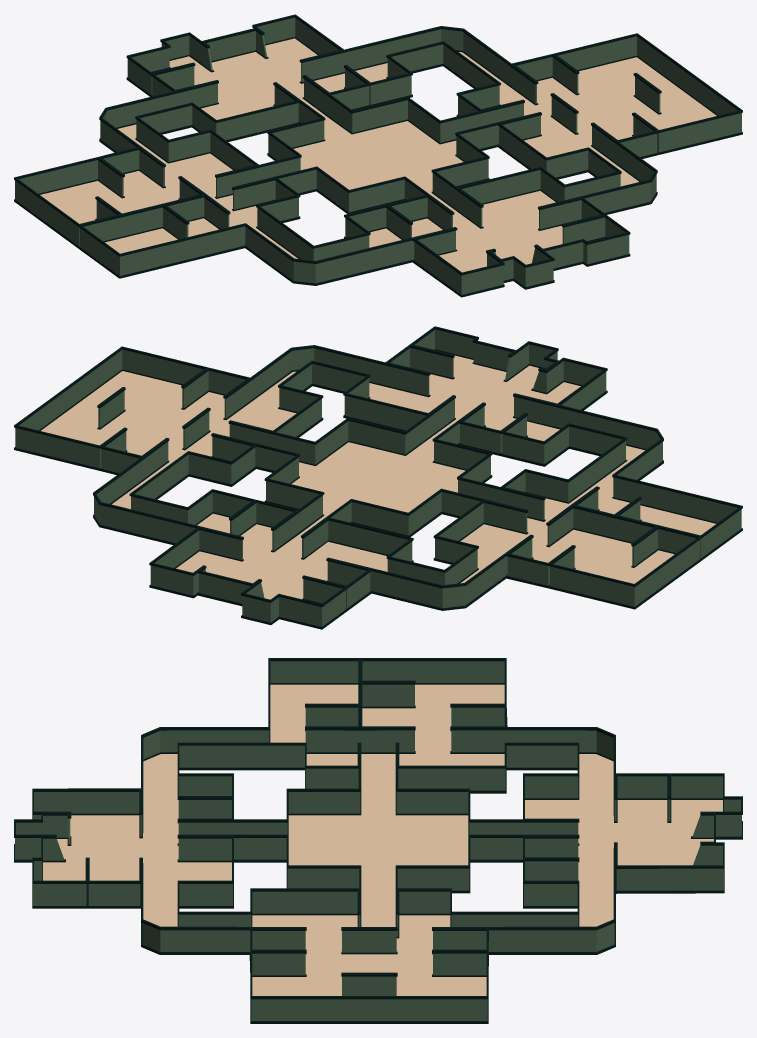
File: Final_Blockout.glb
3 renders of one model, top to bottom at view 1: azimuth 30°, elevation 25°; view 2: azimuth 150°, elevation 25°; view 3: azimuth 270°, elevation 25°, orthographic. The views are drawn at different scales.
Visible parts, largest first — view 1: Walls_col, Ground_col, WallsEdge; view 2: Walls_col, Ground_col, WallsEdge; view 3: Walls_col, Ground_col, WallsEdge.
Part boxes in pixels (bbox=[...]): Walls_col: bbox=[15, 17, 741, 294]; Ground_col: bbox=[40, 38, 716, 272]; WallsEdge: bbox=[14, 14, 742, 297]; Walls_col: bbox=[15, 329, 741, 626]; Ground_col: bbox=[41, 355, 715, 599]; WallsEdge: bbox=[14, 326, 742, 629]; Walls_col: bbox=[15, 661, 741, 1020]; Ground_col: bbox=[43, 684, 722, 995]; WallsEdge: bbox=[14, 658, 742, 1023].
Size of what is drawn, in the model's own units: 88.21 by 3.29 by 80.21.
